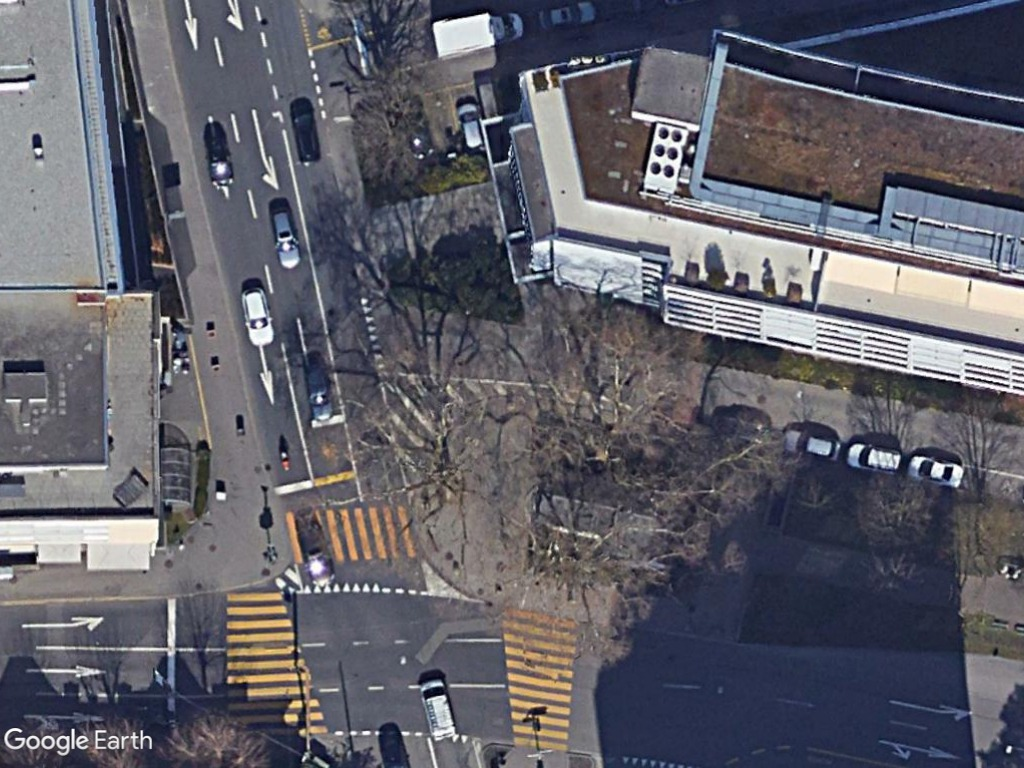car: (239, 284, 279, 349), (778, 424, 843, 463), (904, 452, 968, 490), (269, 206, 305, 272), (844, 440, 902, 475), (454, 100, 485, 151)
truck: (427, 8, 527, 61)
van: (420, 677, 459, 743)
